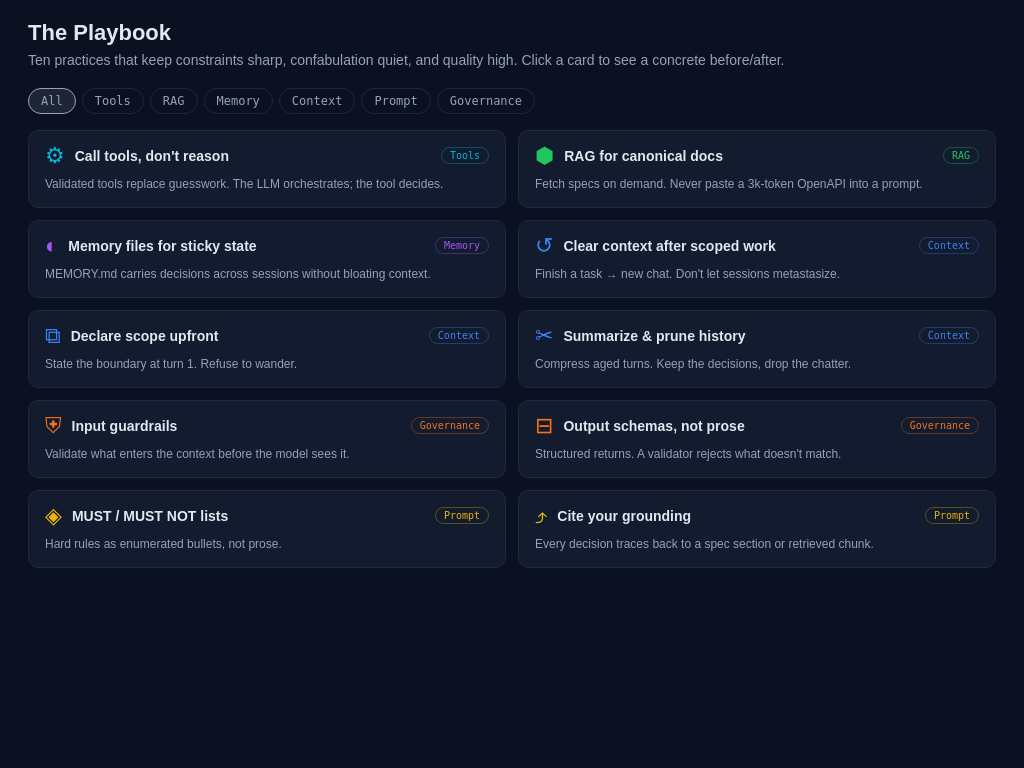
Test case: BestPracticesPlaybook › clicking a card expands it with BEFORE/AFTER blocks
Click the element with test id "card-memory-files": (267,259) 28,220 -> 506,298
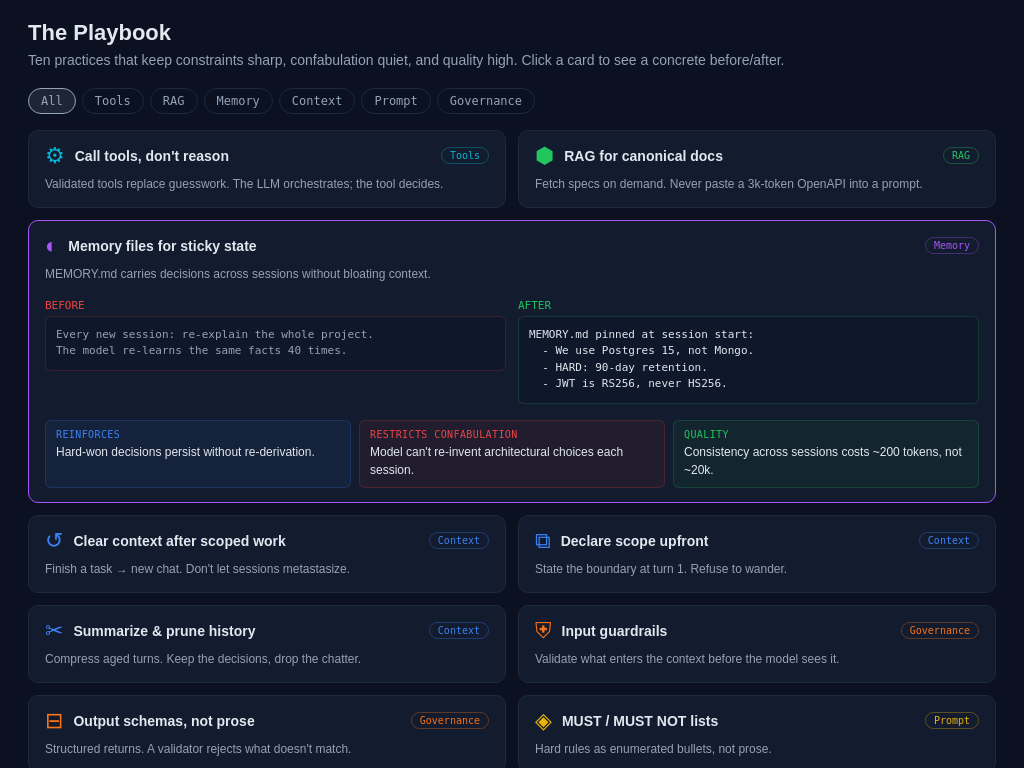
Check: the text "BEFORE" is shown, box 45,299 -> 85,312
Check: the text "AFTER" is shown, box 518,299 -> 551,312
Check: the text "90-day retention" is shown, box 529,328 -> 754,390
